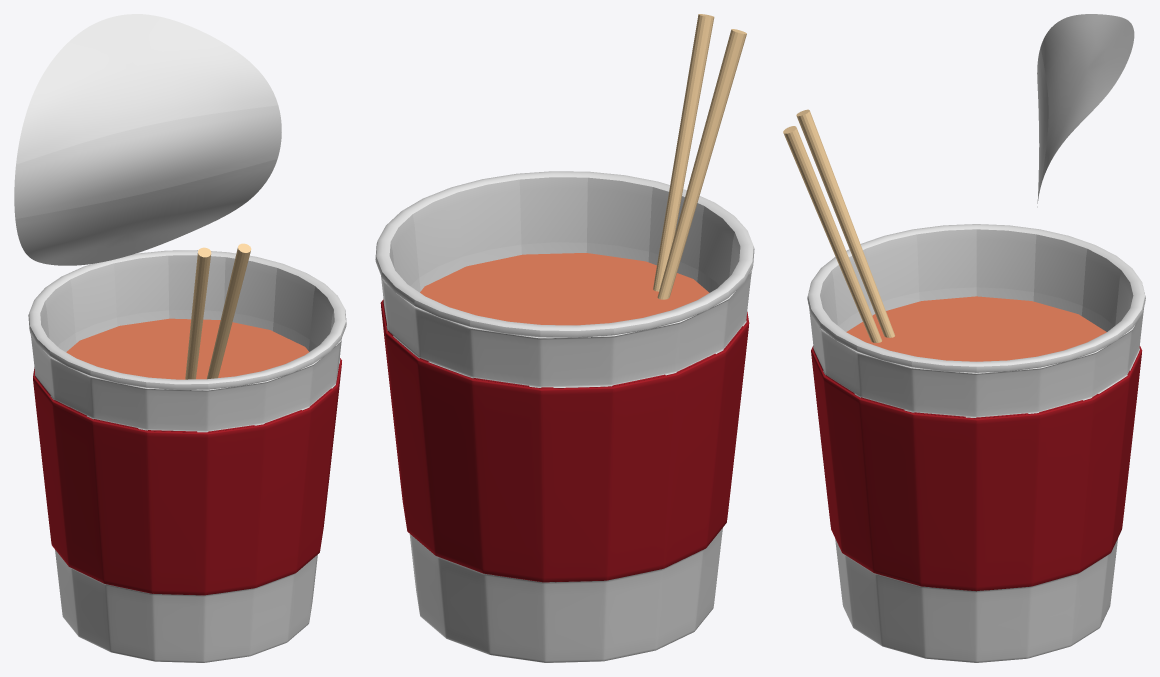
Rendered from cupramen.gltf.
The picture shows the model from 3 angles, left to right: view 1: azimuth 30°, elevation 25°; view 2: azimuth 150°, elevation 25°; view 3: azimuth 270°, elevation 25°; orthographic projection. The views are drawn at different scales.
Visible parts, largest first — view 1: ramen, ramen_top, ramen_fluid, chopstick.001, chopstick; view 2: ramen, ramen_fluid, chopstick, chopstick.001; view 3: ramen, ramen_fluid, ramen_top, chopstick, chopstick.001.
Part boxes in pixels (bbox=[...]): ramen: bbox=[28, 250, 346, 662]; ramen_top: bbox=[14, 14, 281, 265]; ramen_fluid: bbox=[66, 318, 308, 379]; chopstick.001: bbox=[207, 243, 251, 379]; chopstick: bbox=[185, 247, 211, 379]; ramen: bbox=[375, 171, 754, 662]; ramen_fluid: bbox=[420, 253, 709, 325]; chopstick: bbox=[657, 29, 746, 299]; chopstick.001: bbox=[653, 14, 714, 291]; ramen: bbox=[807, 224, 1145, 662]; ramen_fluid: bbox=[846, 296, 1106, 361]; ramen_top: bbox=[1037, 14, 1134, 207]; chopstick: bbox=[796, 109, 894, 337]; chopstick.001: bbox=[783, 126, 881, 342].
Bounding box in the file's own units: 0.3297 × 0.6012 × 0.345.
